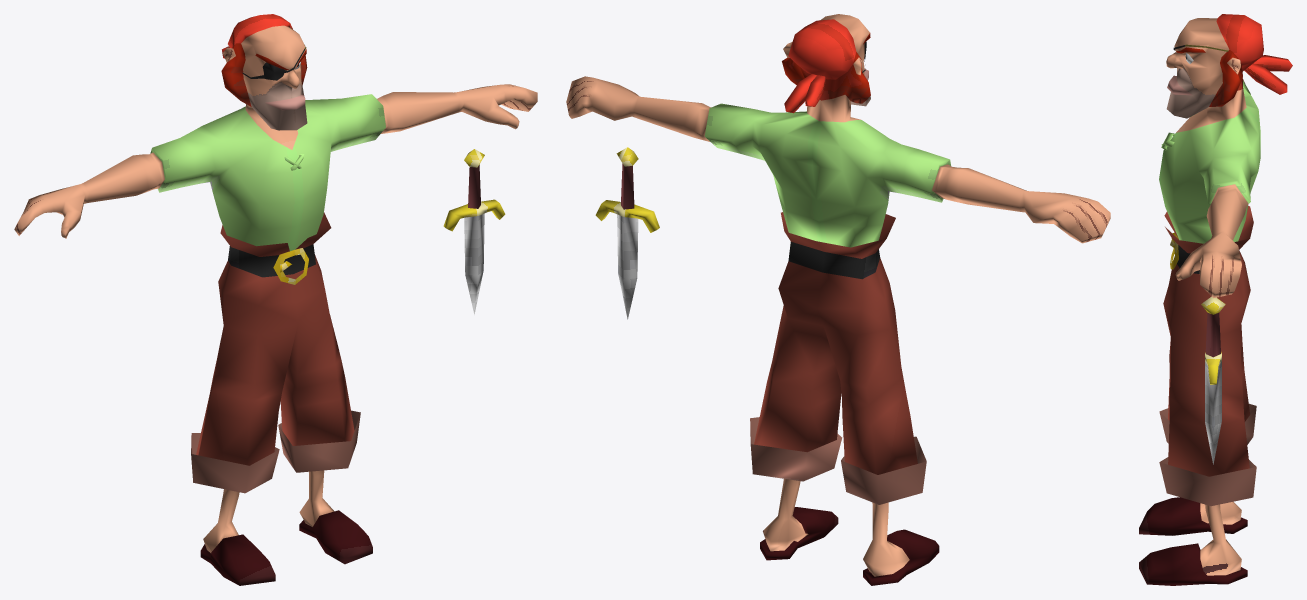
File: pirate.obj
3 renders of one model, left to right at view 1: azimuth 30°, elevation 25°; view 2: azimuth 150°, elevation 25°; view 3: azimuth 270°, elevation 25°, orthographic. The views are drawn at different scales.
Parts seen in each view (by area): view 1: pirate; view 2: pirate; view 3: pirate.
Part boxes in pixels (bbox=[...]): pirate: bbox=[14, 14, 537, 585]; pirate: bbox=[566, 14, 1110, 585]; pirate: bbox=[1139, 14, 1292, 585].
Bounding box in the file's own units: 1.7 × 1.64 × 0.4273.
Materials: 1 (1 with a texture image).
